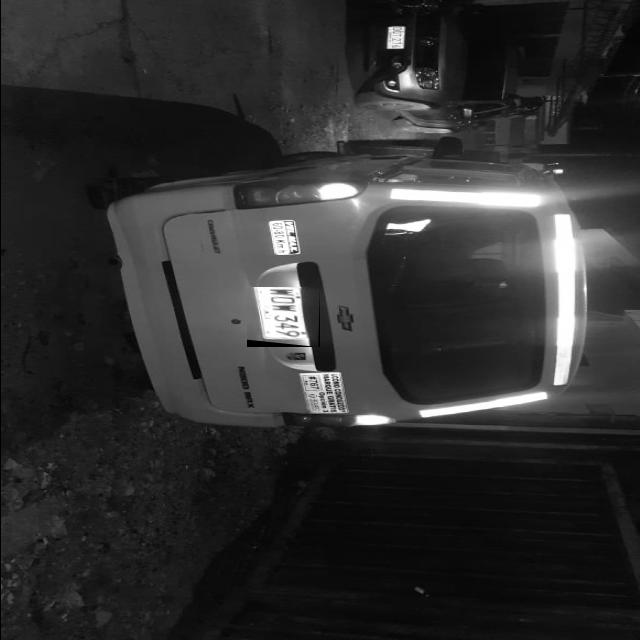plate: (247, 287, 317, 343)
